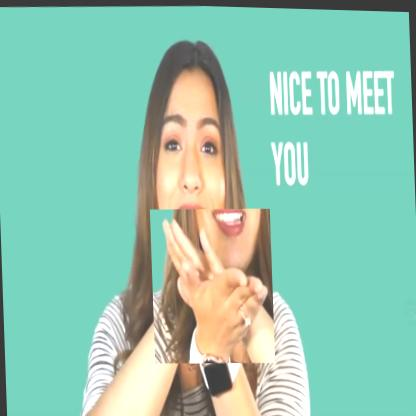NiceToMeetYou: (150, 204, 276, 365)
